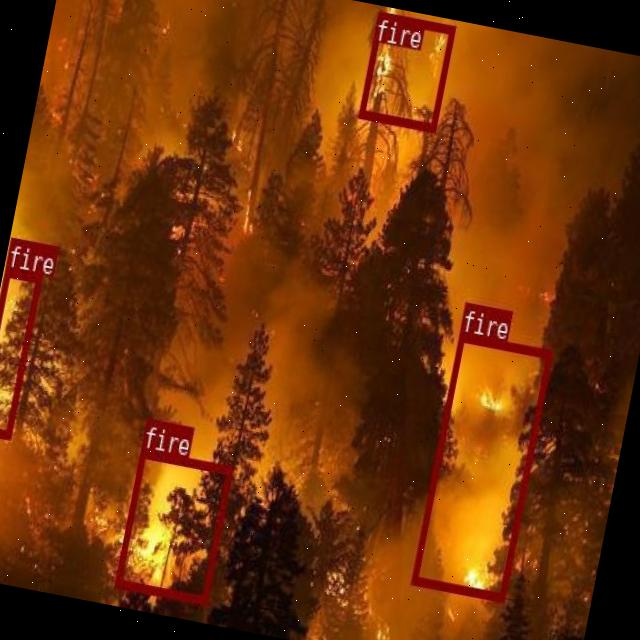fire: (412, 332, 552, 600), (114, 447, 232, 603), (358, 10, 454, 130), (0, 267, 41, 438)
